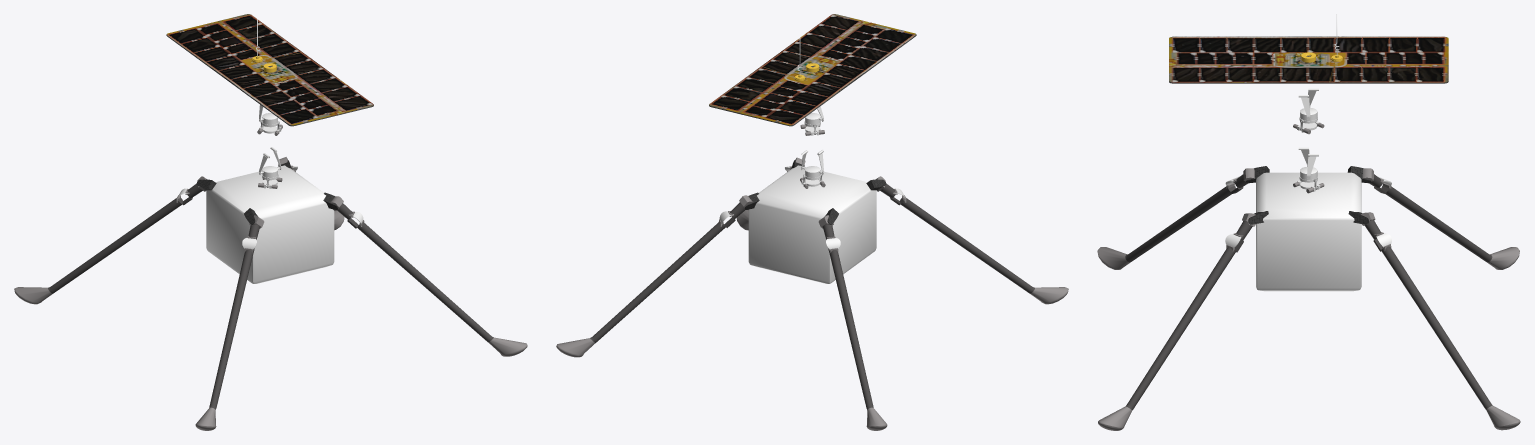
The model's file is Ingenuity_body.glb.
3 renders of one model, left to right at view 1: azimuth 30°, elevation 25°; view 2: azimuth 150°, elevation 25°; view 3: azimuth 270°, elevation 25°, orthographic. The views are drawn at different scales.
Visible parts, largest first — view 1: bus, solar_panel, leg_03, leg_02, leg_01, parts_02; view 2: bus, solar_panel, leg_04, leg_01, leg_02, parts_02; view 3: solar_panel, bus, leg_03, leg_04, leg_01, leg_02, parts_01, parts_02.
Boxes of the visible parts, x1=… form: bus: x1=196, y1=160, x2=337, y2=283; solar_panel: x1=166, y1=14, x2=373, y2=126; leg_03: x1=330, y1=196, x2=527, y2=356; leg_02: x1=14, y1=176, x2=206, y2=304; leg_01: x1=195, y1=215, x2=264, y2=430; parts_02: x1=258, y1=147, x2=282, y2=188; bus: x1=744, y1=160, x2=886, y2=283; solar_panel: x1=709, y1=14, x2=916, y2=126; leg_04: x1=556, y1=195, x2=752, y2=357; leg_01: x1=876, y1=176, x2=1068, y2=304; leg_02: x1=818, y1=215, x2=887, y2=430; parts_02: x1=800, y1=150, x2=825, y2=188; solar_panel: x1=1169, y1=14, x2=1448, y2=83; bus: x1=1246, y1=166, x2=1371, y2=291; leg_03: x1=1098, y1=213, x2=1255, y2=430; leg_04: x1=1361, y1=212, x2=1520, y2=430; leg_01: x1=1097, y1=168, x2=1254, y2=269; leg_02: x1=1362, y1=168, x2=1519, y2=269; parts_01: x1=1293, y1=88, x2=1324, y2=134; parts_02: x1=1293, y1=147, x2=1324, y2=193.
Size of the model in its own units: 0.6431 by 0.5621 by 0.643.
9 materials, 3 textured.
